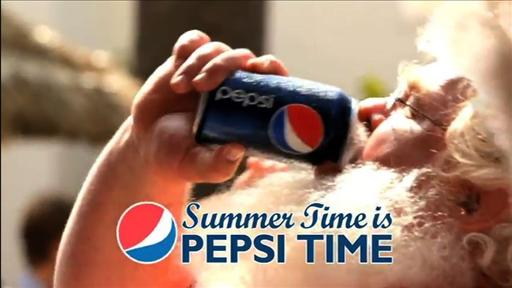pepsi: (113, 197, 177, 264), (113, 199, 177, 264), (264, 100, 322, 153), (264, 102, 322, 153), (266, 102, 322, 153)
